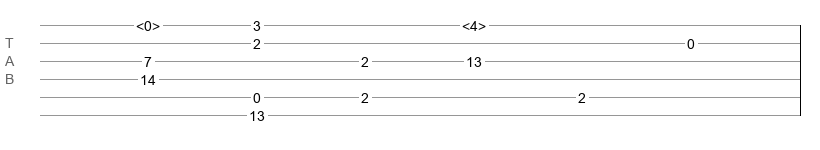0: (253, 90, 261, 100), (687, 36, 695, 46)
13: (249, 108, 265, 118), (466, 54, 482, 64)
14: (140, 72, 156, 82)
2: (253, 36, 261, 46), (361, 90, 369, 100), (361, 54, 369, 64), (578, 90, 586, 100)
3: (253, 18, 261, 28)
7: (144, 54, 152, 64)
harmonic: (136, 18, 160, 28), (462, 18, 486, 28)
